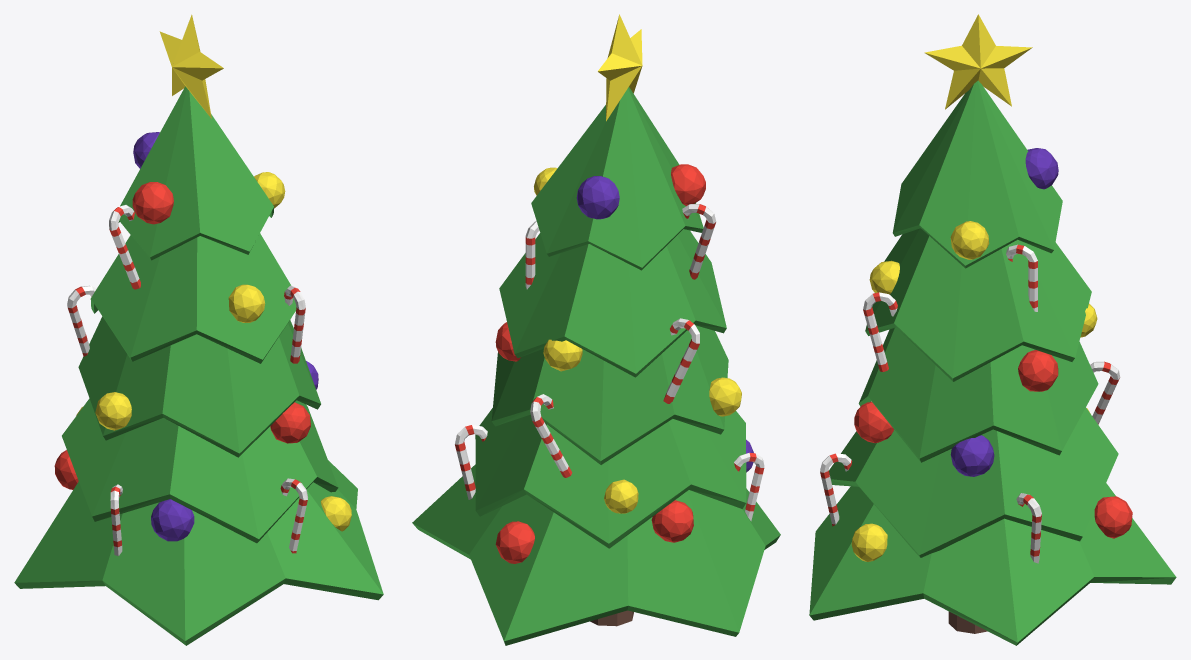
The model's file is tree_two.obj.
3 renders of one model, left to right at view 1: azimuth 30°, elevation 25°; view 2: azimuth 150°, elevation 25°; view 3: azimuth 270°, elevation 25°, orthographic.
Visible parts, largest first — view 1: group558281359, group148092846, group667748054, group615263083, group1540402439, group1827880687, group1410509470, group1089073295, group1164989660, group1127207942, group179461400, group77345095 (+8 smaller); view 2: group558281359, group148092846, group615263083, group667748054, group1540402439, group1827880687, group2051798186, group1832615123, group411241951, group1089073295, group1969426104, group948351503 (+8 smaller); view 3: group558281359, group148092846, group615263083, group667748054, group1540402439, group1827880687, group214022184, group1633066821, group411241951, group922588407, group1164989660, group1084830891 (+7 smaller).
Part boxes in pixels (x1=…): group558281359: x1=14, y1=460, x2=383, y2=645; group148092846: x1=62, y1=398, x2=338, y2=543; group667748054: x1=78, y1=316, x2=320, y2=457; group615263083: x1=90, y1=233, x2=296, y2=363; group1540402439: x1=118, y1=86, x2=273, y2=260; group1827880687: x1=159, y1=14, x2=223, y2=118; group1410509470: x1=151, y1=499, x2=194, y2=541; group1089073295: x1=132, y1=182, x2=173, y2=224; group1164989660: x1=270, y1=402, x2=310, y2=443; group1127207942: x1=228, y1=284, x2=265, y2=322; group179461400: x1=95, y1=392, x2=131, y2=430; group77345095: x1=109, y1=205, x2=140, y2=289; group558281359: x1=412, y1=464, x2=780, y2=645; group148092846: x1=475, y1=408, x2=746, y2=548; group615263083: x1=499, y1=229, x2=726, y2=377; group667748054: x1=491, y1=325, x2=728, y2=464; group1540402439: x1=531, y1=87, x2=703, y2=270; group1827880687: x1=597, y1=14, x2=642, y2=121; group2051798186: x1=576, y1=176, x2=619, y2=219; group1832615123: x1=651, y1=500, x2=693, y2=542; group411241951: x1=495, y1=521, x2=534, y2=563; group1089073295: x1=671, y1=164, x2=705, y2=206; group1969426104: x1=663, y1=318, x2=699, y2=403; group948351503: x1=530, y1=394, x2=572, y2=477; group558281359: x1=809, y1=483, x2=1176, y2=645; group148092846: x1=829, y1=407, x2=1118, y2=557; group615263083: x1=865, y1=228, x2=1091, y2=381; group667748054: x1=858, y1=327, x2=1098, y2=462; group1540402439: x1=892, y1=80, x2=1062, y2=268; group1827880687: x1=924, y1=14, x2=1032, y2=109; group214022184: x1=950, y1=435, x2=994, y2=476; group1633066821: x1=1018, y1=350, x2=1058, y2=391; group411241951: x1=1094, y1=496, x2=1132, y2=538; group922588407: x1=950, y1=221, x2=989, y2=259; group1164989660: x1=854, y1=401, x2=893, y2=443; group1084830891: x1=851, y1=523, x2=887, y2=561.
Size of the model in its own units: 0.8953 by 1.54 by 0.848.
